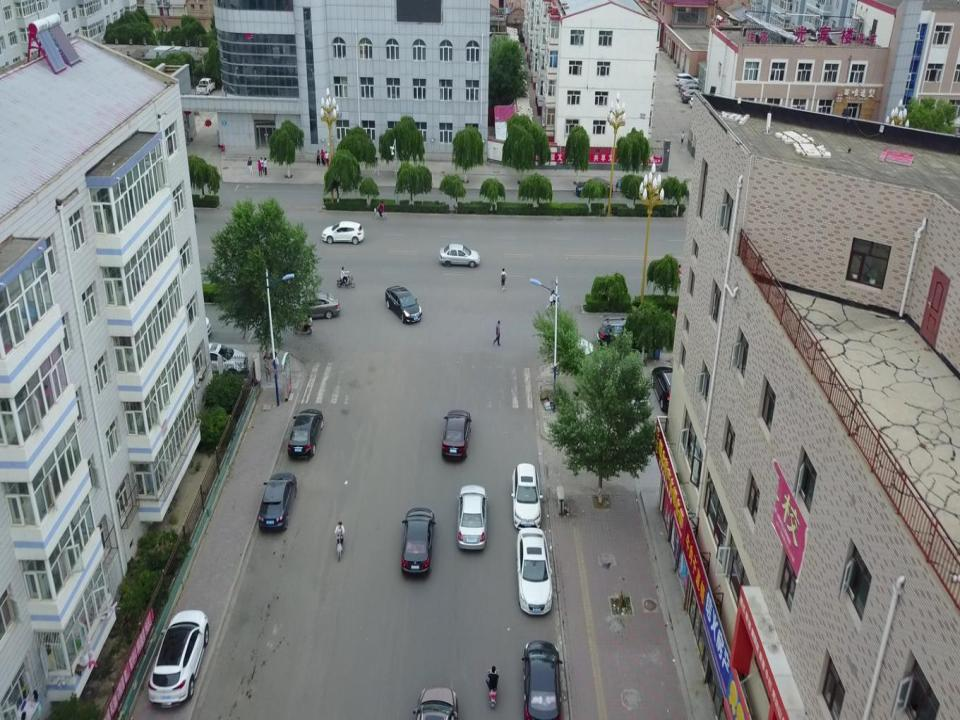car: (148, 609, 210, 710), (516, 527, 553, 616), (522, 641, 562, 720), (401, 507, 435, 576), (258, 472, 297, 531), (510, 463, 544, 530), (597, 317, 656, 354), (191, 343, 248, 380), (456, 485, 488, 550), (287, 408, 324, 459), (560, 335, 604, 376), (650, 366, 686, 412), (412, 685, 459, 720), (441, 410, 472, 461), (290, 290, 340, 321), (385, 285, 422, 324), (165, 313, 212, 341), (322, 221, 365, 245), (439, 243, 480, 268), (575, 177, 613, 199), (681, 89, 707, 104), (689, 94, 715, 109), (674, 72, 700, 86), (678, 79, 706, 91), (679, 84, 706, 96)
truck: (196, 78, 216, 96)
